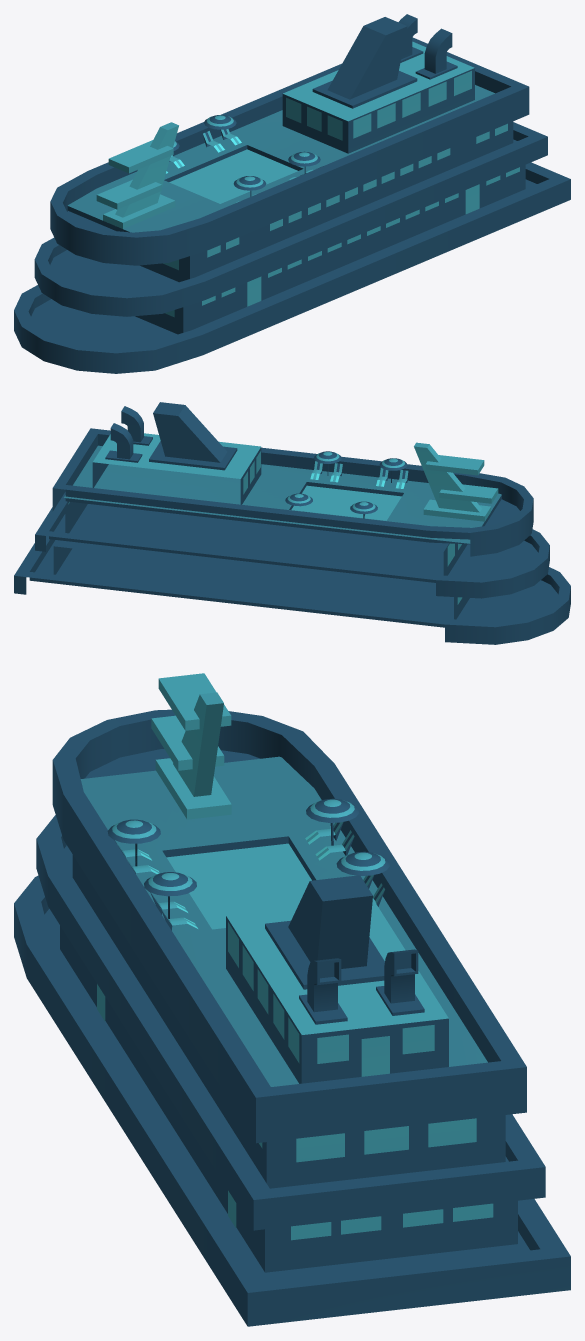
Rendered from Super_Ship_LV4.FBX.
3 views of the same model, one above another, from view 1: azimuth 30°, elevation 25°; view 2: azimuth 150°, elevation 25°; view 3: azimuth 270°, elevation 25° (orthographic). The views are drawn at different scales.
Visible parts, largest first — view 1: Super_Ship; view 2: Super_Ship; view 3: Super_Ship.
Part boxes in pixels (x1,y1,x2,y2): Super_Ship: (14, 14, 570, 373); Super_Ship: (14, 402, 570, 644); Super_Ship: (14, 673, 570, 1326).
Bounding box in the file's own units: 38.71 × 12.55 × 20.24.
